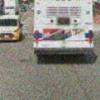buses: (30, 0, 96, 59)
